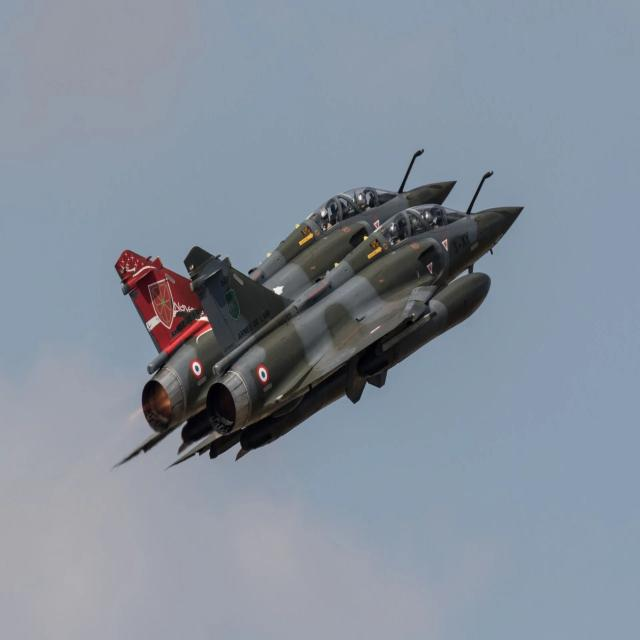MIL_Plane: (111, 148, 457, 470), (163, 170, 524, 472)
